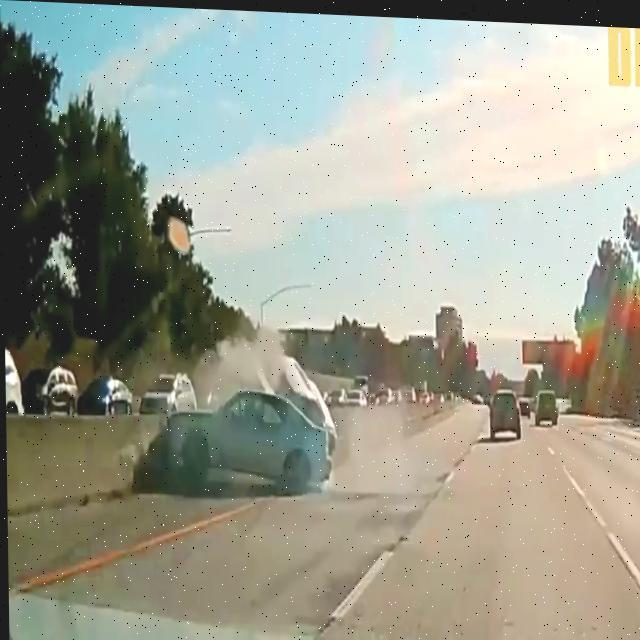multiple_accident: (143, 343, 390, 548)
normal: (463, 380, 577, 457)
